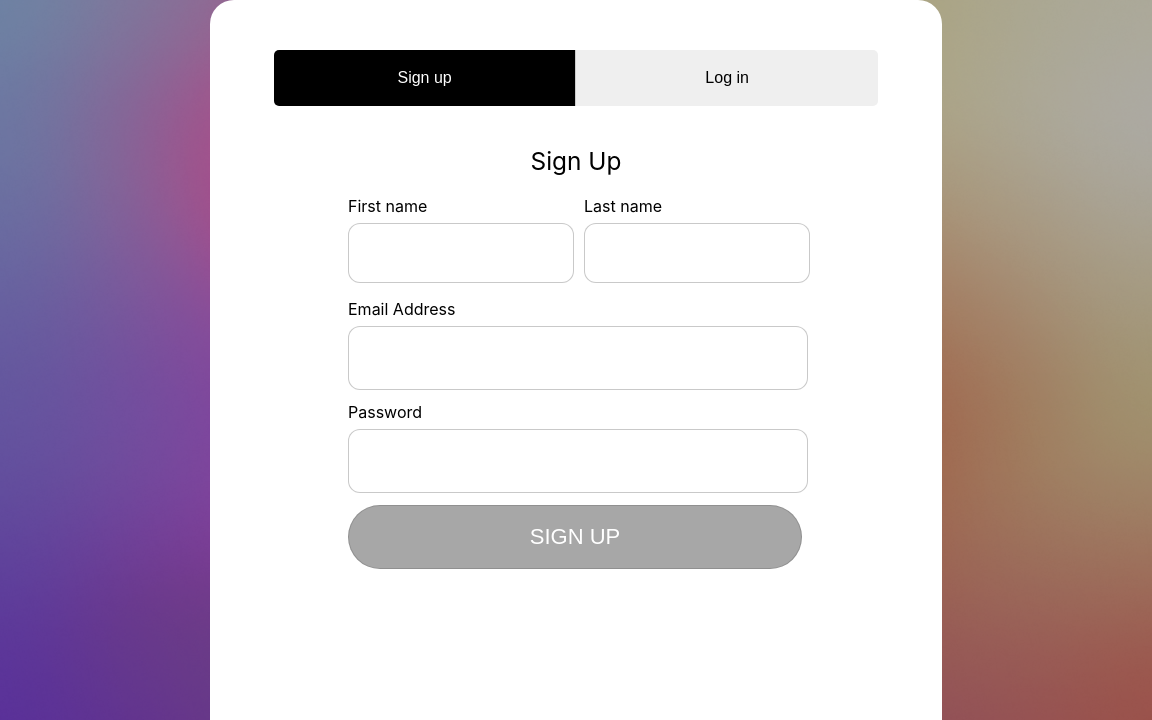
Sign up and Log in Tests › Log in functionality
Click the button "Log in": click(727, 78) x1=576 y1=50 x2=878 y2=106
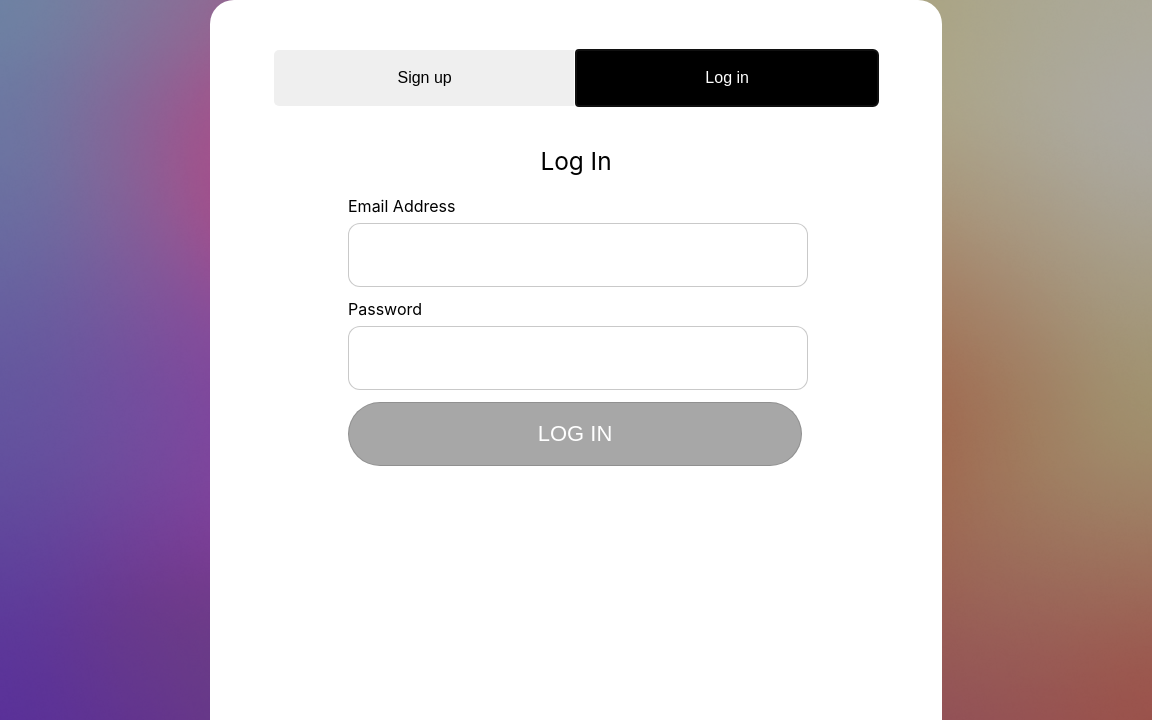
Expected: the element with class "App-SignIn-GetAddress-Container" is shown, x1=348 y1=196 x2=804 y2=283
Now the button with class "App-LogIn-Button-Container" is shown, box x1=348 y1=402 x2=802 y2=466
